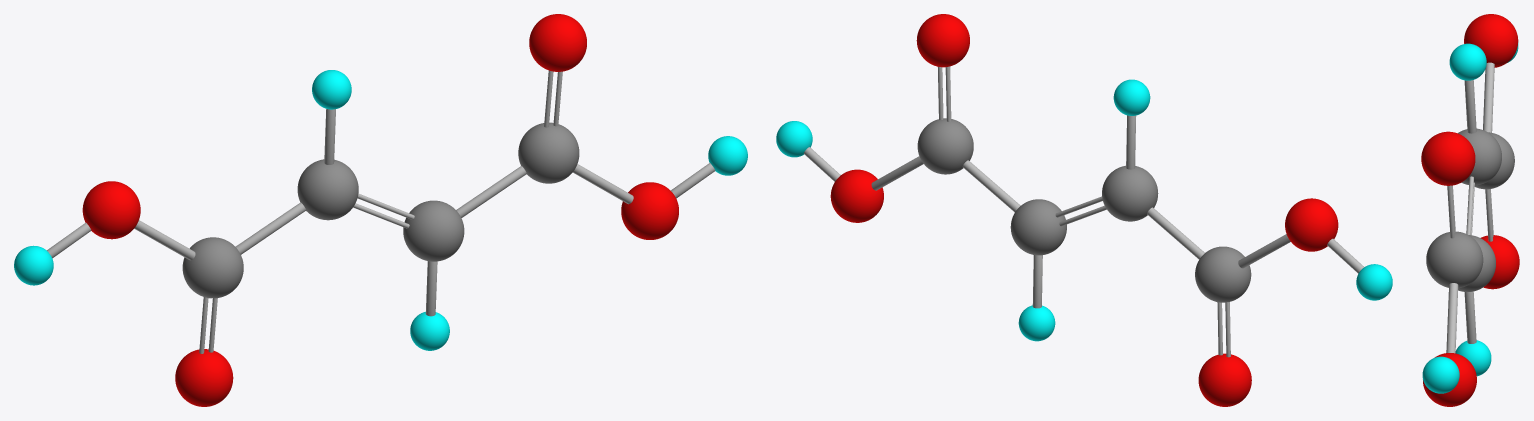
The model's file is fumaric acid.glb.
3 renders of one model, left to right at view 1: azimuth 30°, elevation 25°; view 2: azimuth 150°, elevation 25°; view 3: azimuth 270°, elevation 25°, orthographic. The views are drawn at different scales.
Parts seen in each view (by area): view 1: CMAtom_2, CMAtom_1, CMAtom_0, CMAtom_3, CMAtom_6, CMAtom_9, CMAtom_8, CMAtom_7, CMAtom_5, CMAtom_10, CMAtom_11, CMAtom_4 (+4 smaller); view 2: CMAtom_2, CMAtom_0, CMAtom_1, CMAtom_3, CMAtom_6, CMAtom_9, CMAtom_8, CMAtom_7, CMAtom_10, CMAtom_5, CMAtom_11, CMAtom_4 (+4 smaller); view 3: CMAtom_2, CMAtom_6, CMAtom_9, CMAtom_0, CMAtom_7, CMAtom_8, CMAtom_5, CMAtom_11, CMAtom_3, CMAtom_1, CMAtom_4, CMBond_9_Segment_0 (+6 smaller).
Part boxes in pixels (<box>): CMAtom_2: <box>518,122,579,183</box>; CMAtom_1: <box>403,200,464,261</box>; CMAtom_0: <box>297,159,358,220</box>; CMAtom_3: <box>182,237,243,298</box>; CMAtom_6: <box>529,14,586,71</box>; CMAtom_9: <box>82,181,140,239</box>; CMAtom_8: <box>175,349,233,406</box>; CMAtom_7: <box>621,182,678,239</box>; CMAtom_5: <box>312,70,351,109</box>; CMAtom_10: <box>14,245,53,285</box>; CMAtom_11: <box>708,136,747,175</box>; CMAtom_4: <box>410,311,449,350</box>; CMAtom_2: <box>917,118,973,174</box>; CMAtom_0: <box>1102,165,1158,221</box>; CMAtom_1: <box>1010,199,1066,255</box>; CMAtom_3: <box>1195,246,1251,302</box>; CMAtom_6: <box>916,14,969,67</box>; CMAtom_9: <box>1285,198,1338,251</box>; CMAtom_8: <box>1198,353,1251,406</box>; CMAtom_7: <box>830,169,883,222</box>; CMAtom_10: <box>1356,264,1392,300</box>; CMAtom_5: <box>1113,79,1150,115</box>; CMAtom_11: <box>776,121,812,157</box>; CMAtom_4: <box>1018,305,1055,341</box>; CMAtom_2: <box>1426,231,1483,288</box>; CMAtom_6: <box>1421,131,1475,185</box>; CMAtom_9: <box>1464,14,1518,67</box>; CMAtom_0: <box>1458,128,1501,185</box>; CMAtom_7: <box>1423,353,1476,406</box>; CMAtom_8: <box>1481,235,1519,289</box>; CMAtom_5: <box>1449,43,1486,80</box>; CMAtom_11: <box>1422,356,1459,393</box>; CMAtom_3: <box>1474,132,1514,189</box>; CMAtom_1: <box>1458,235,1495,291</box>; CMAtom_4: <box>1455,340,1491,376</box>; CMBond_9_Segment_0: <box>1446,283,1458,353</box>.
Size of the model in its own units: 8.11 by 3.6 by 1.06.
